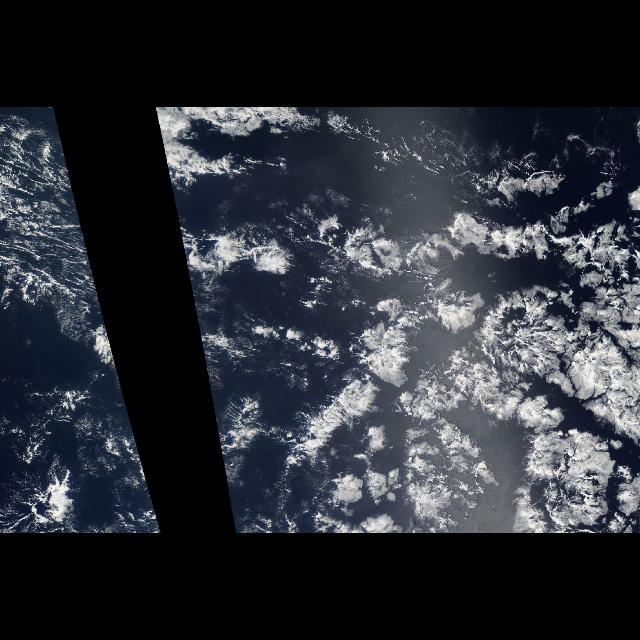Flower: (173, 195, 512, 533)
Sugar: (1, 123, 108, 330)
